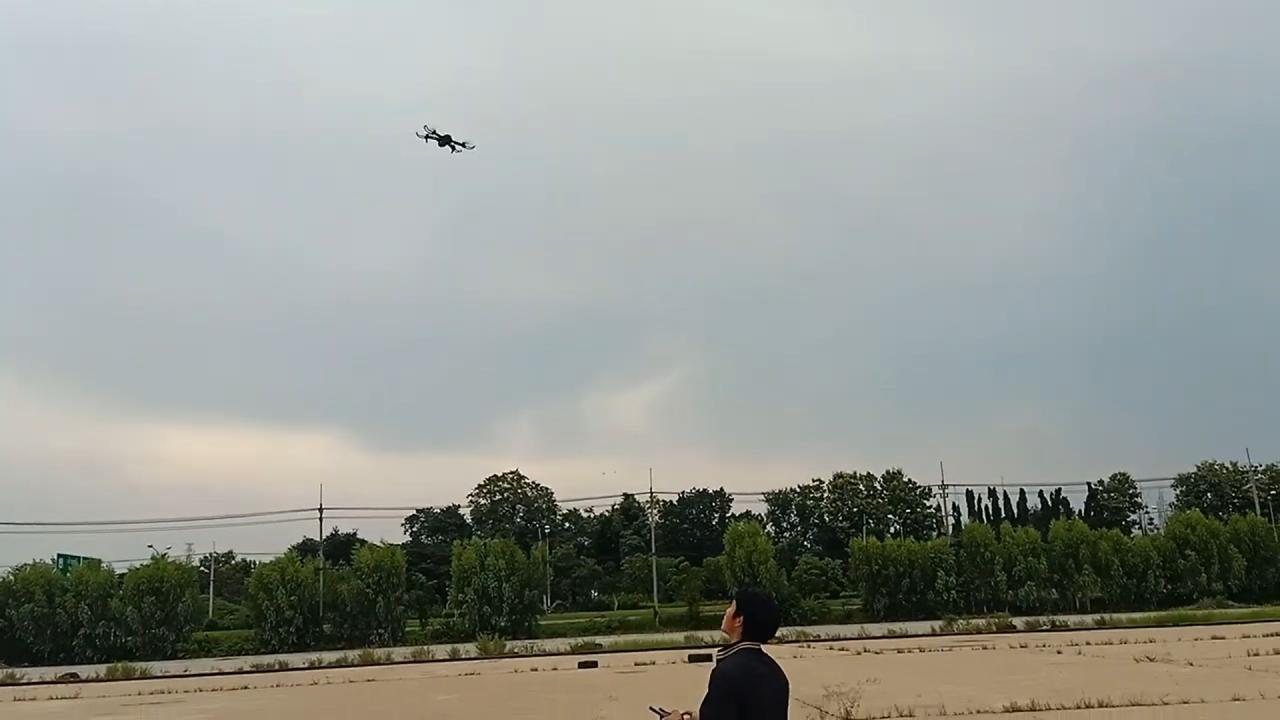Drone: (410, 114, 479, 168)
